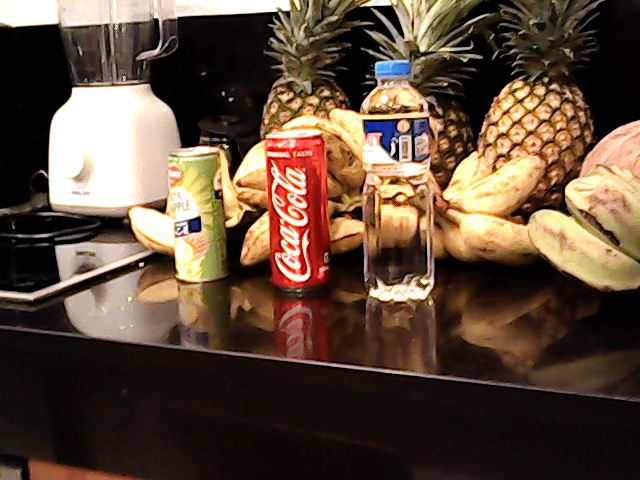Cola: (268, 126, 335, 290)
Pine Juice: (160, 145, 224, 286)
Summit Water: (356, 54, 437, 304)
